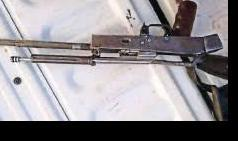larga: (0, 0, 228, 82)
